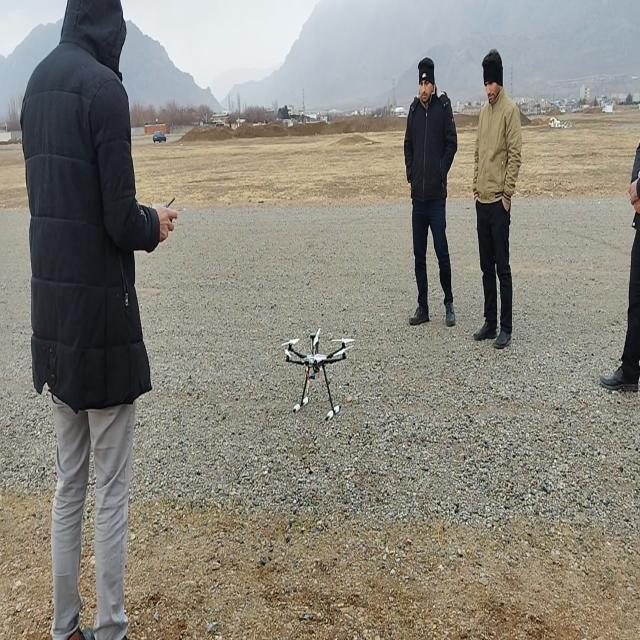drone: (282, 326, 354, 422)
